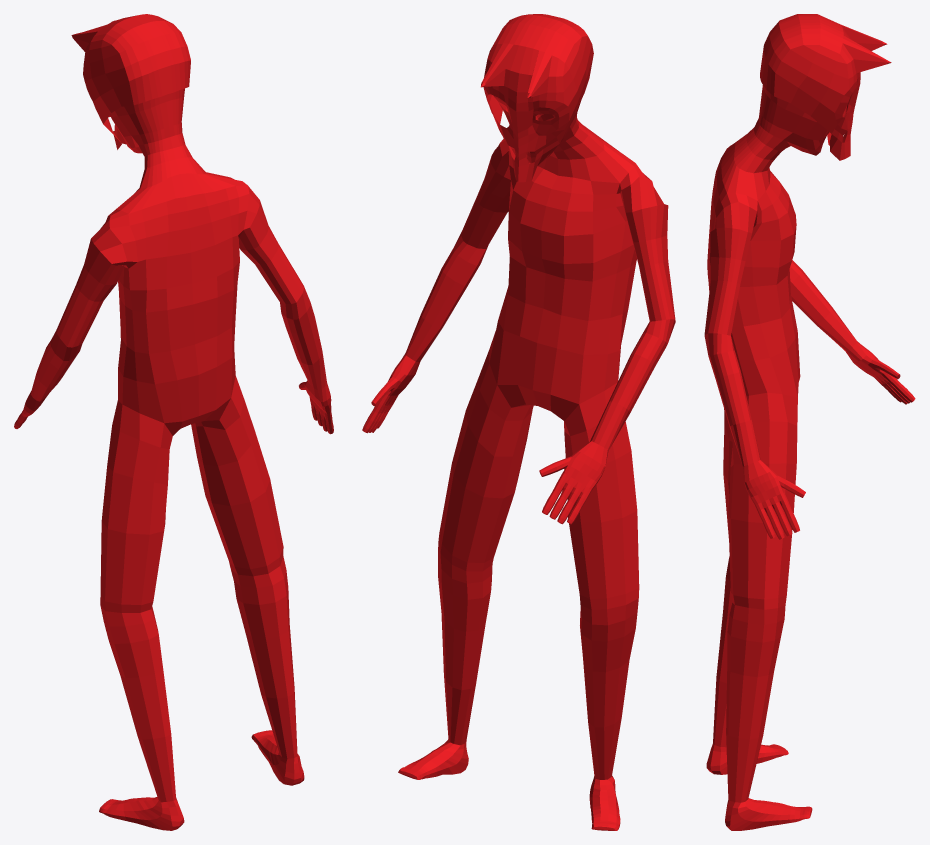
File: reposoE_000319.obj
3 views of the same model, side by side, from view 1: azimuth 30°, elevation 25°; view 2: azimuth 150°, elevation 25°; view 3: azimuth 270°, elevation 25° (orthographic). The views are drawn at different scales.
Visible parts, largest first — view 1: Plane.002_Plane.001; view 2: Plane.002_Plane.001; view 3: Plane.002_Plane.001.
Part boxes in pixels (bbox=[...]): Plane.002_Plane.001: bbox=[14, 14, 333, 830]; Plane.002_Plane.001: bbox=[362, 14, 675, 830]; Plane.002_Plane.001: bbox=[704, 14, 915, 830].
Bounding box in the file's own units: 2.71 × 7.12 × 1.8.
